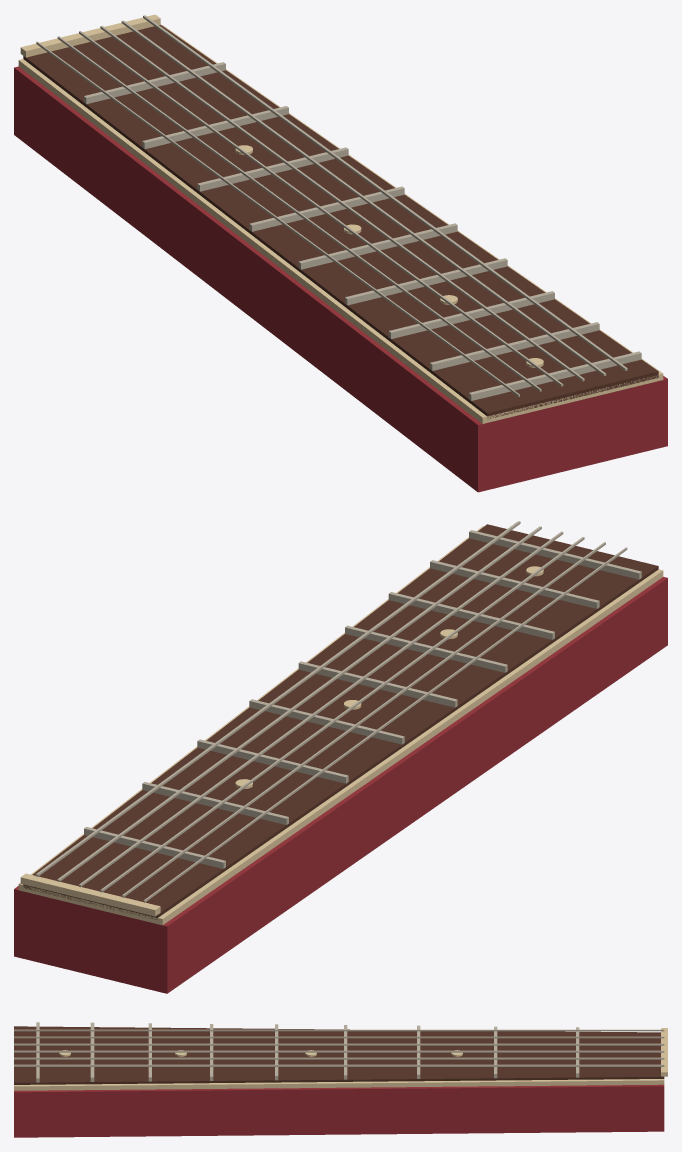
File: fretboard.glb
3 views of the same model, one above another, from view 1: azimuth 30°, elevation 25°; view 2: azimuth 150°, elevation 25°; view 3: azimuth 270°, elevation 25° (orthographic). The views are drawn at different scales.
Parts seen in each view (by area): view 1: Tapered rosewood board, Lacquered neck, Cream binding, String 6, String 5, String 4, String 3, String 2, String 1, Nut, Fret 9, Fret 8 (+7 smaller); view 2: Tapered rosewood board, Lacquered neck, Cream binding, String 6, String 5, String 4, String 3, String 2, String 1, Nut, Fret 9, Fret 8 (+7 smaller); view 3: Lacquered neck, Tapered rosewood board, Cream binding, String 3, String 4, String 5, String 6, String 1, String 2, Nut, Fret 8, Fret 9 (+2 smaller).
Boxes of the visible parts, left/top/right/bottom form: Tapered rosewood board: left=23, top=24, right=658, bottom=419; Lacquered neck: left=14, top=66, right=667, bottom=492; Cream binding: left=18, top=25, right=663, bottom=423; String 6: left=143, top=15, right=627, bottom=370; String 5: left=121, top=20, right=606, bottom=375; String 4: left=100, top=26, right=584, bottom=381; String 3: left=79, top=31, right=563, bottom=386; String 2: left=57, top=36, right=541, bottom=391; String 1: left=36, top=41, right=519, bottom=396; Nut: left=20, top=14, right=160, bottom=57; Fret 9: left=469, top=351, right=641, bottom=400; Fret 8: left=430, top=322, right=599, bottom=370; Tapered rosewood board: left=23, top=524, right=658, bottom=919; Lacquered neck: left=14, top=577, right=667, bottom=993; Cream binding: left=18, top=526, right=663, bottom=925; String 6: left=35, top=521, right=520, bottom=876; String 5: left=57, top=526, right=541, bottom=881; String 4: left=79, top=531, right=563, bottom=887; String 3: left=100, top=537, right=584, bottom=892; String 2: left=122, top=542, right=605, bottom=897; String 1: left=143, top=547, right=627, bottom=902; Nut: left=20, top=873, right=160, bottom=916; Fret 9: left=469, top=530, right=641, bottom=579; Fret 8: left=430, top=560, right=599, bottom=608; Lacquered neck: left=14, top=1084, right=664, bottom=1137; Tapered rosewood board: left=14, top=1026, right=664, bottom=1084; Cream binding: left=14, top=1079, right=664, bottom=1090; String 3: left=14, top=1043, right=664, bottom=1045; String 4: left=14, top=1050, right=664, bottom=1052; String 5: left=14, top=1057, right=664, bottom=1059; String 6: left=14, top=1064, right=664, bottom=1066; String 1: left=14, top=1029, right=664, bottom=1031; String 2: left=14, top=1036, right=664, bottom=1038; Nut: left=661, top=1028, right=667, bottom=1076; Fret 8: left=90, top=1022, right=94, bottom=1081; Fret 9: left=36, top=1022, right=39, bottom=1082.
Size of the model in its own units: 0.062 by 0.0273 by 0.2742.
